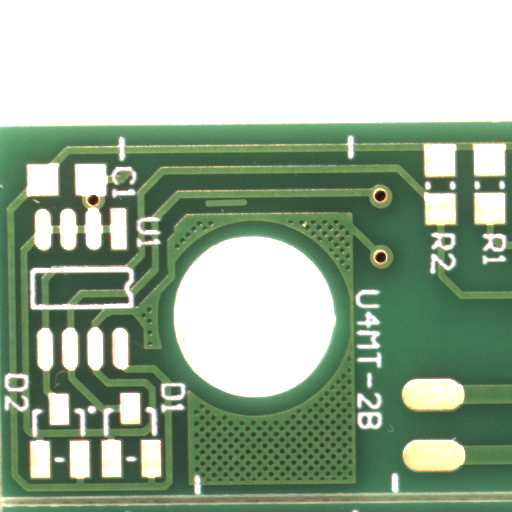Spurious_copper: (225, 203, 269, 214)
